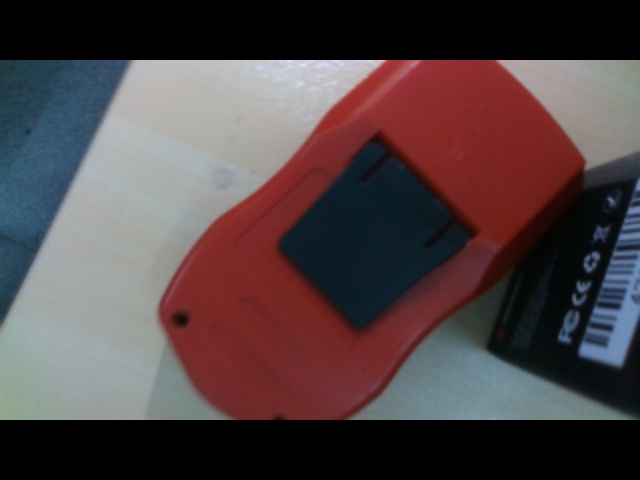Multimeter: (158, 57, 589, 420)
Screw holes: (169, 310, 192, 330)
